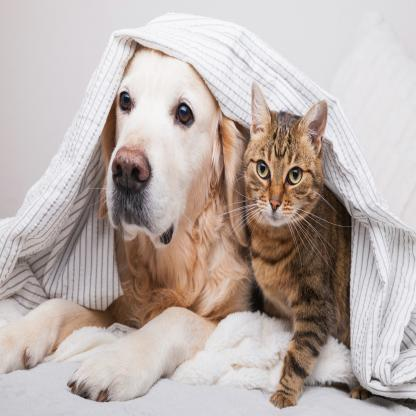cat: (244, 79, 345, 269)
dog: (80, 14, 237, 280)
